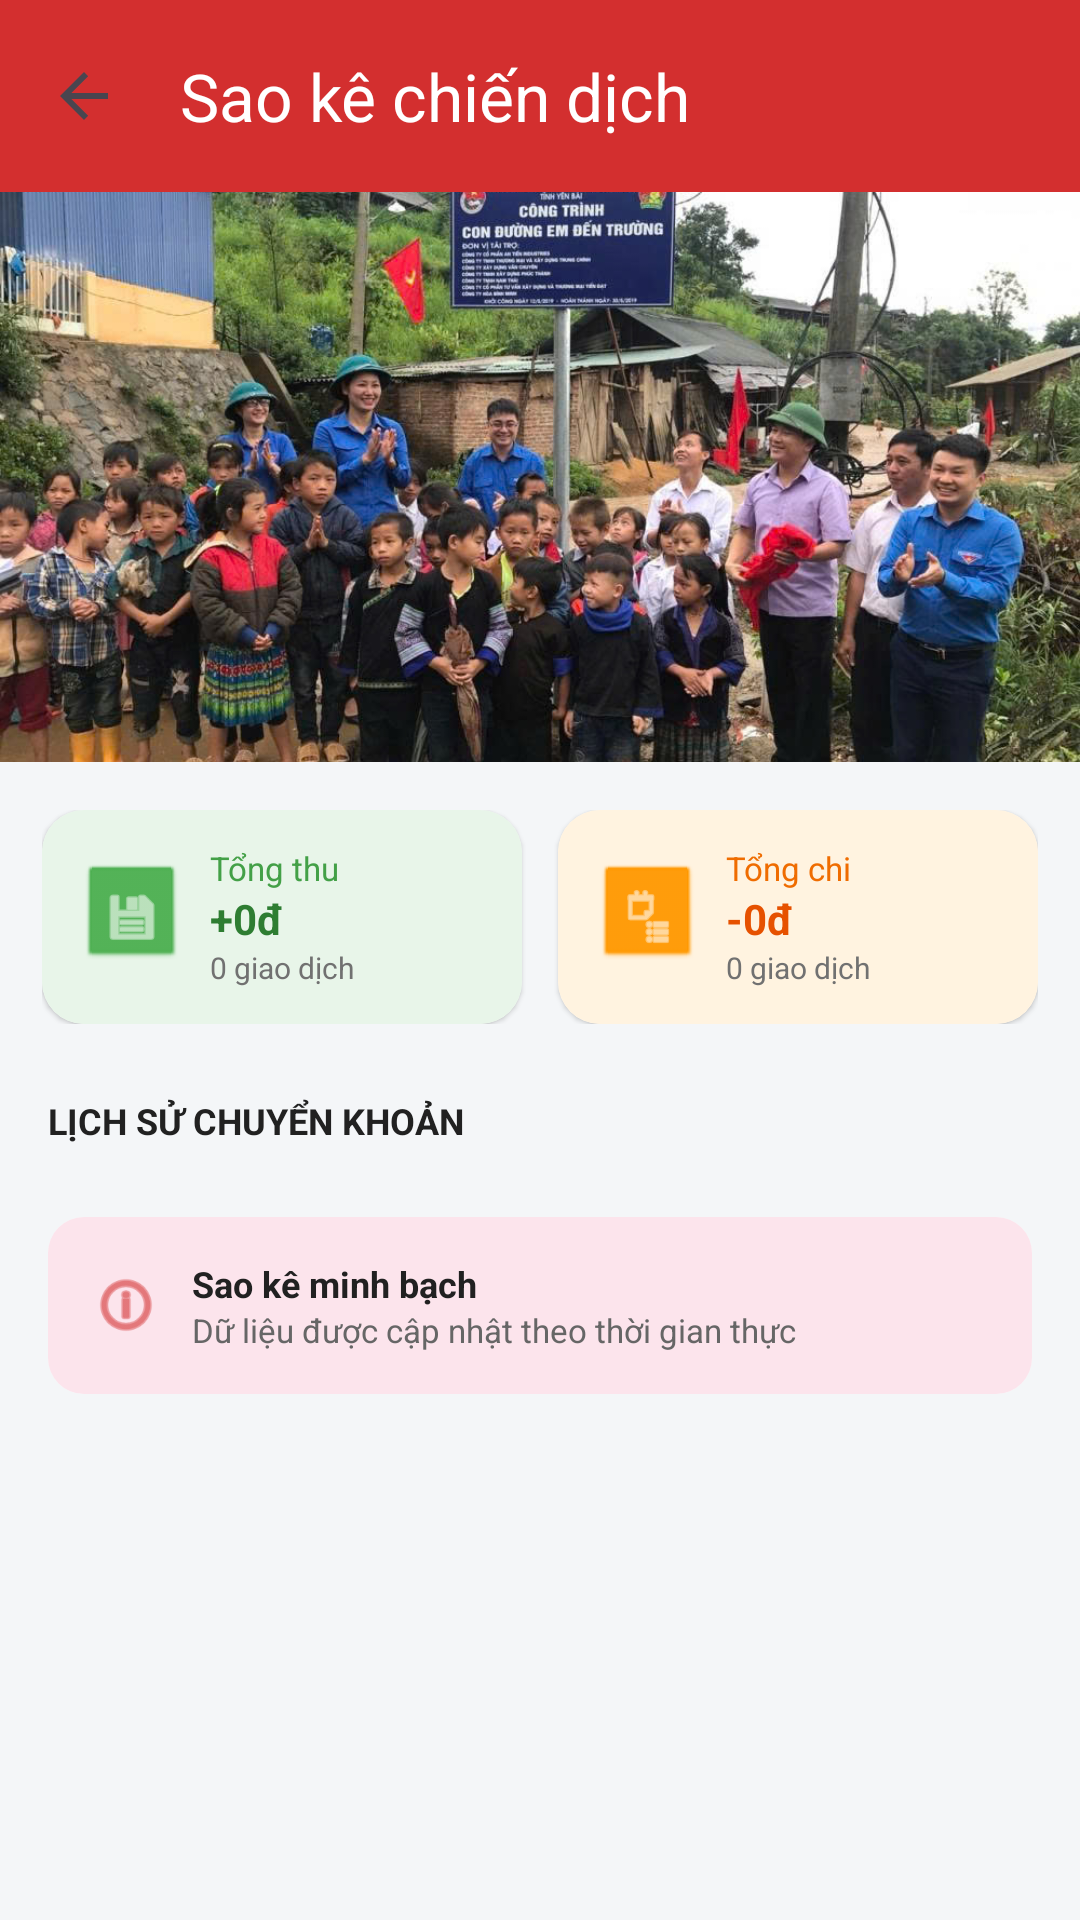

Icon bounding boxes for this 1080×1920 phone screenshot, format (x1, y1, x2, y2):
agenda: (603, 866, 692, 957)
info details: (100, 1279, 152, 1331)
save: (87, 866, 176, 956)
